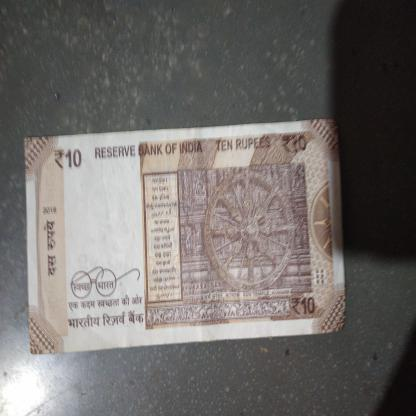New10Back: (19, 130, 343, 343)
